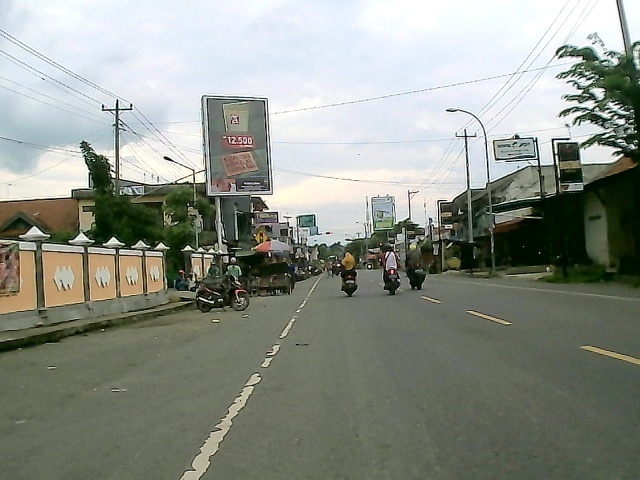Lampu isyarat: (253, 229, 270, 244)
